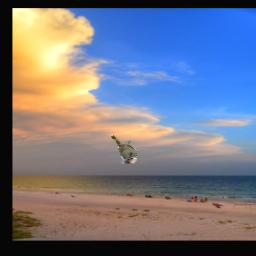Sparrow: (110, 136, 137, 164)
